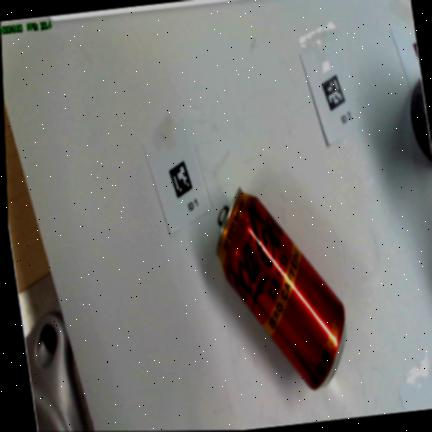can_coke_decaf: (216, 188, 345, 389)
